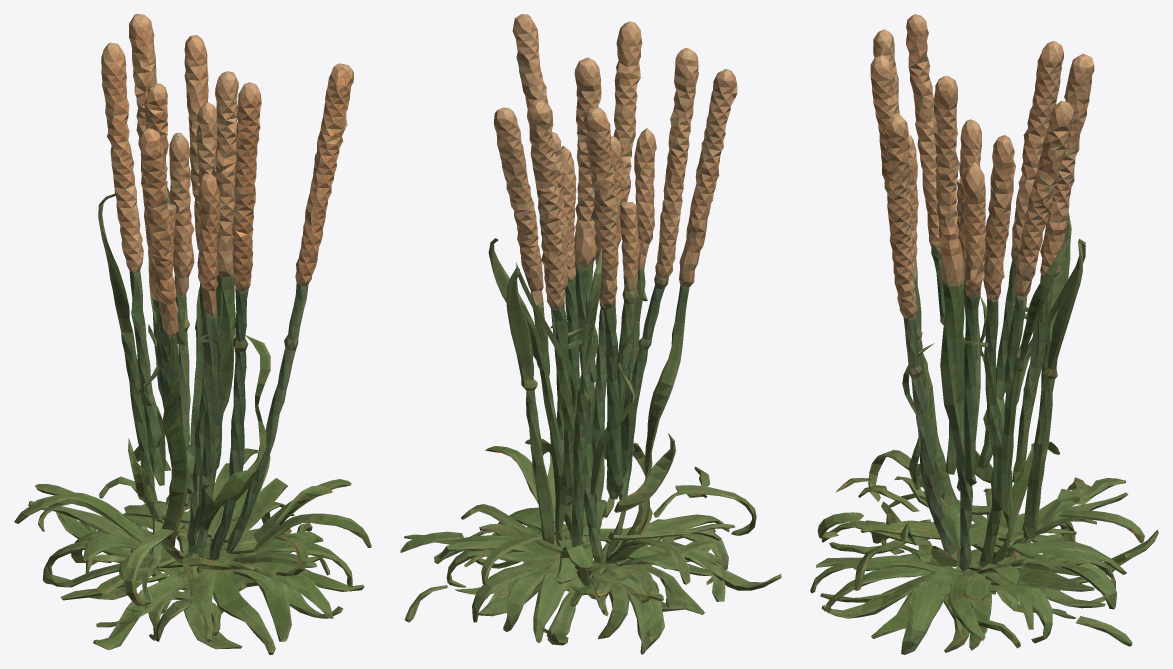
The model's file is resource-fibre_stalk-final.glb.
3 renders of one model, left to right at view 1: azimuth 30°, elevation 25°; view 2: azimuth 150°, elevation 25°; view 3: azimuth 270°, elevation 25°, orthographic.
Parts seen in each view (by area): view 1: Mesh_0; view 2: Mesh_0; view 3: Mesh_0.
Boxes of the visible parts, x1,y1,x2,y2 form: Mesh_0: (14,14,371,654); Mesh_0: (400,14,781,654); Mesh_0: (810,14,1158,654).
Size of the model in its own units: 0.1083 by 0.2 by 0.115.
Materials: 1 (1 with a texture image).
